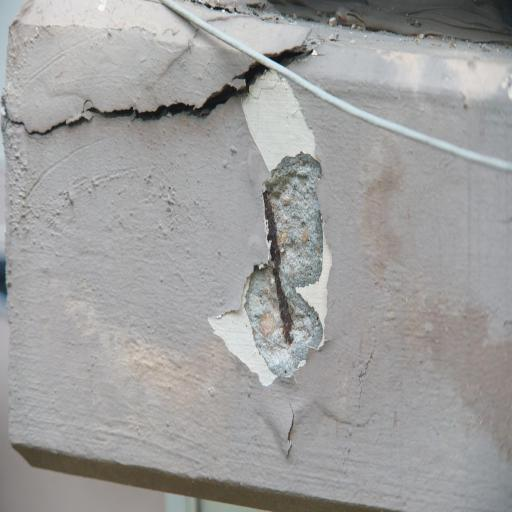exposed_rebar: (263, 188, 293, 345)
spalling: (244, 153, 323, 378)
